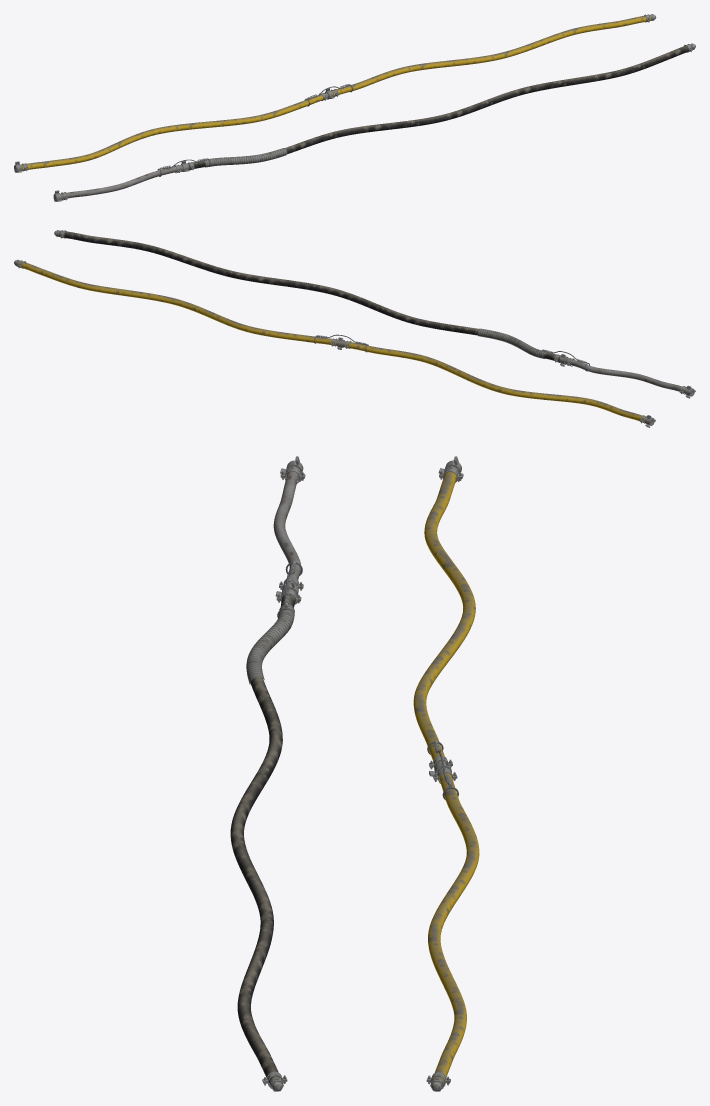
Rendered from SM_AEE_P01_Air.glb.
The picture shows the model from 3 angles, top to bottom: view 1: azimuth 30°, elevation 25°; view 2: azimuth 150°, elevation 25°; view 3: azimuth 270°, elevation 25°; orthographic projection. The views are drawn at different scales.
Parts seen in each view (by area): view 1: SM_AEE_P01_02_BOYAU_D_AIR_HAUTE_PRESSION_2_po_1, SM_AEE_P01_01_BOYAU_D_AIR_BASSE_PRESSION_2_po_2, SM_AEE_P01_01_BOYAU_D_AIR_BASSE_PRESSION_2_po_1, SM_AEE_P01_04_BOYAU_TRESSE_INOX_2_po_1, SM_AEE_P01_03_GAINE_SPIRALEE_de_protection_1; view 2: SM_AEE_P01_02_BOYAU_D_AIR_HAUTE_PRESSION_2_po_1, SM_AEE_P01_01_BOYAU_D_AIR_BASSE_PRESSION_2_po_2, SM_AEE_P01_01_BOYAU_D_AIR_BASSE_PRESSION_2_po_1, SM_AEE_P01_04_BOYAU_TRESSE_INOX_2_po_1, SM_AEE_P01_03_GAINE_SPIRALEE_de_protection_1; view 3: SM_AEE_P01_02_BOYAU_D_AIR_HAUTE_PRESSION_2_po_1, SM_AEE_P01_01_BOYAU_D_AIR_BASSE_PRESSION_2_po_2, SM_AEE_P01_01_BOYAU_D_AIR_BASSE_PRESSION_2_po_1, SM_AEE_P01_03_GAINE_SPIRALEE_de_protection_1, SM_AEE_P01_04_BOYAU_TRESSE_INOX_2_po_1.
Part boxes in pixels (x1=…): SM_AEE_P01_02_BOYAU_D_AIR_HAUTE_PRESSION_2_po_1: x1=188, y1=44, x2=692, y2=169; SM_AEE_P01_01_BOYAU_D_AIR_BASSE_PRESSION_2_po_2: x1=332, y1=15, x2=650, y2=96; SM_AEE_P01_01_BOYAU_D_AIR_BASSE_PRESSION_2_po_1: x1=22, y1=93, x2=326, y2=170; SM_AEE_P01_04_BOYAU_TRESSE_INOX_2_po_1: x1=62, y1=166, x2=176, y2=198; SM_AEE_P01_03_GAINE_SPIRALEE_de_protection_1: x1=205, y1=148, x2=287, y2=167; SM_AEE_P01_02_BOYAU_D_AIR_HAUTE_PRESSION_2_po_1: x1=59, y1=231, x2=560, y2=362; SM_AEE_P01_01_BOYAU_D_AIR_BASSE_PRESSION_2_po_2: x1=17, y1=261, x2=336, y2=345; SM_AEE_P01_01_BOYAU_D_AIR_BASSE_PRESSION_2_po_1: x1=344, y1=341, x2=646, y2=422; SM_AEE_P01_04_BOYAU_TRESSE_INOX_2_po_1: x1=570, y1=359, x2=685, y2=392; SM_AEE_P01_03_GAINE_SPIRALEE_de_protection_1: x1=477, y1=328, x2=545, y2=358; SM_AEE_P01_02_BOYAU_D_AIR_HAUTE_PRESSION_2_po_1: x1=230, y1=594, x2=295, y2=1084; SM_AEE_P01_01_BOYAU_D_AIR_BASSE_PRESSION_2_po_2: x1=428, y1=773, x2=479, y2=1083; SM_AEE_P01_01_BOYAU_D_AIR_BASSE_PRESSION_2_po_1: x1=413, y1=471, x2=475, y2=765; SM_AEE_P01_03_GAINE_SPIRALEE_de_protection_1: x1=246, y1=605, x2=294, y2=684; SM_AEE_P01_04_BOYAU_TRESSE_INOX_2_po_1: x1=273, y1=471, x2=300, y2=585.
Bounding box in the file's own units: 8.36 × 0.163 × 1.41.
Materials: 6 (6 with a texture image).
